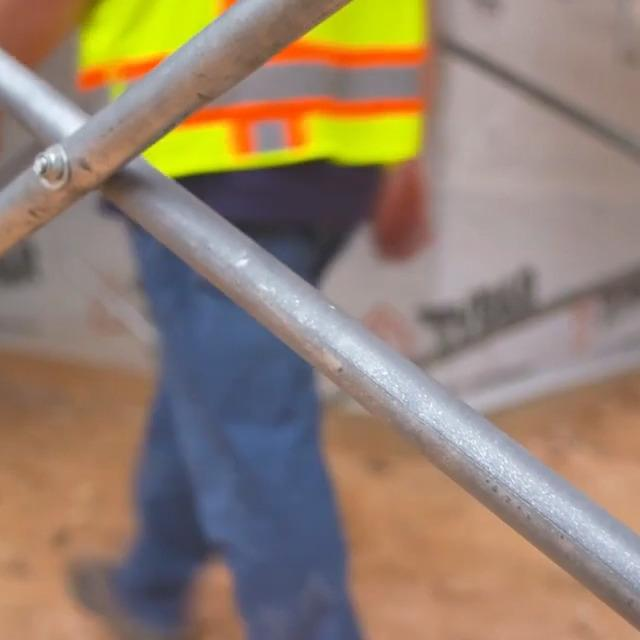Person: (0, 0, 442, 640)
Safety Vest: (80, 0, 427, 172)
